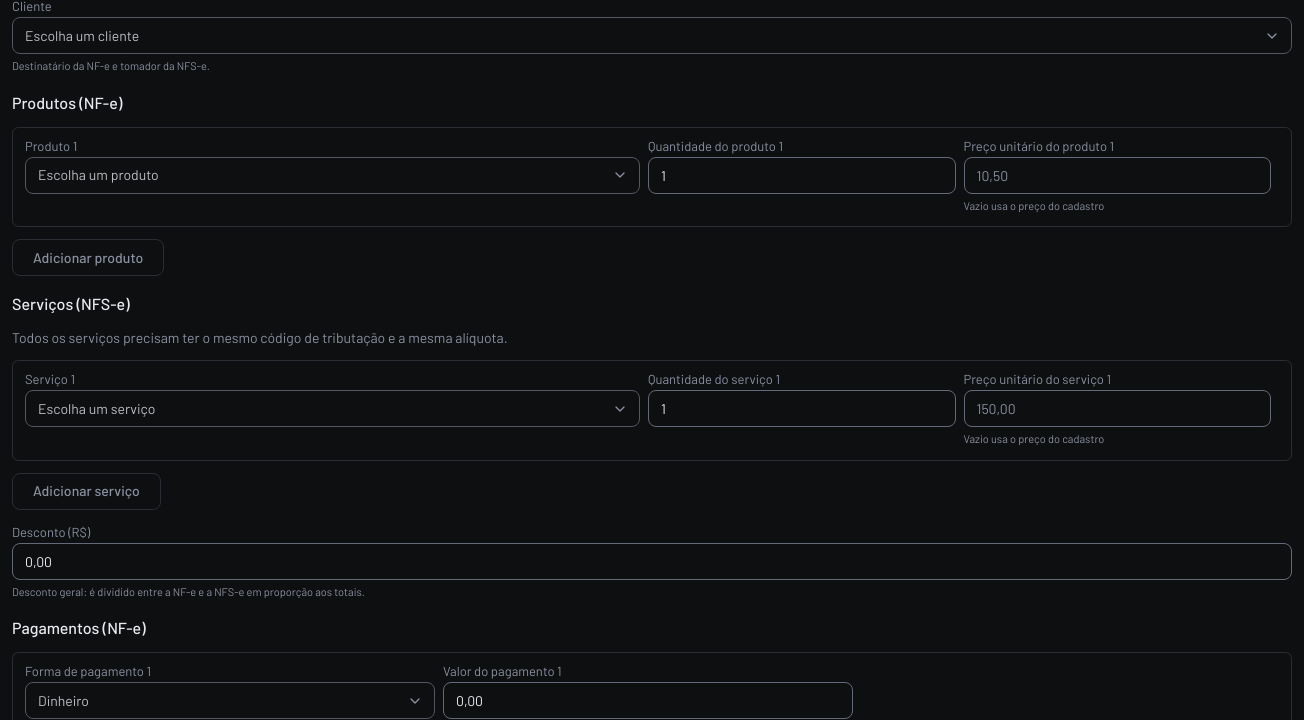
VendaForm › avisa quando o desconto passa do total dos itens
The width and height of the screenshot is (1304, 720).
Select "Maria Teste" in the dropdown labelled "Cliente" at [652, 36], box [12, 17, 1292, 54]
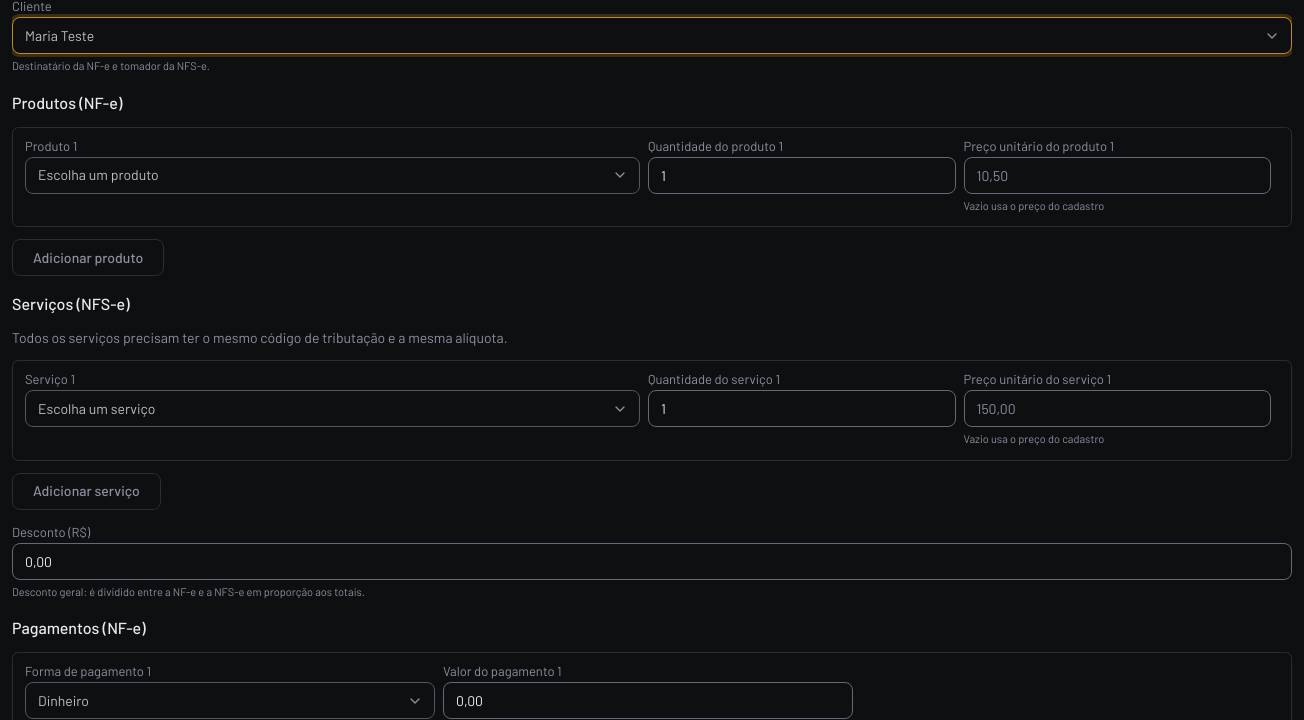
Select "Filtro de óleo" in the dropdown labelled "Produto 1" at [332, 175], box [25, 156, 640, 194]
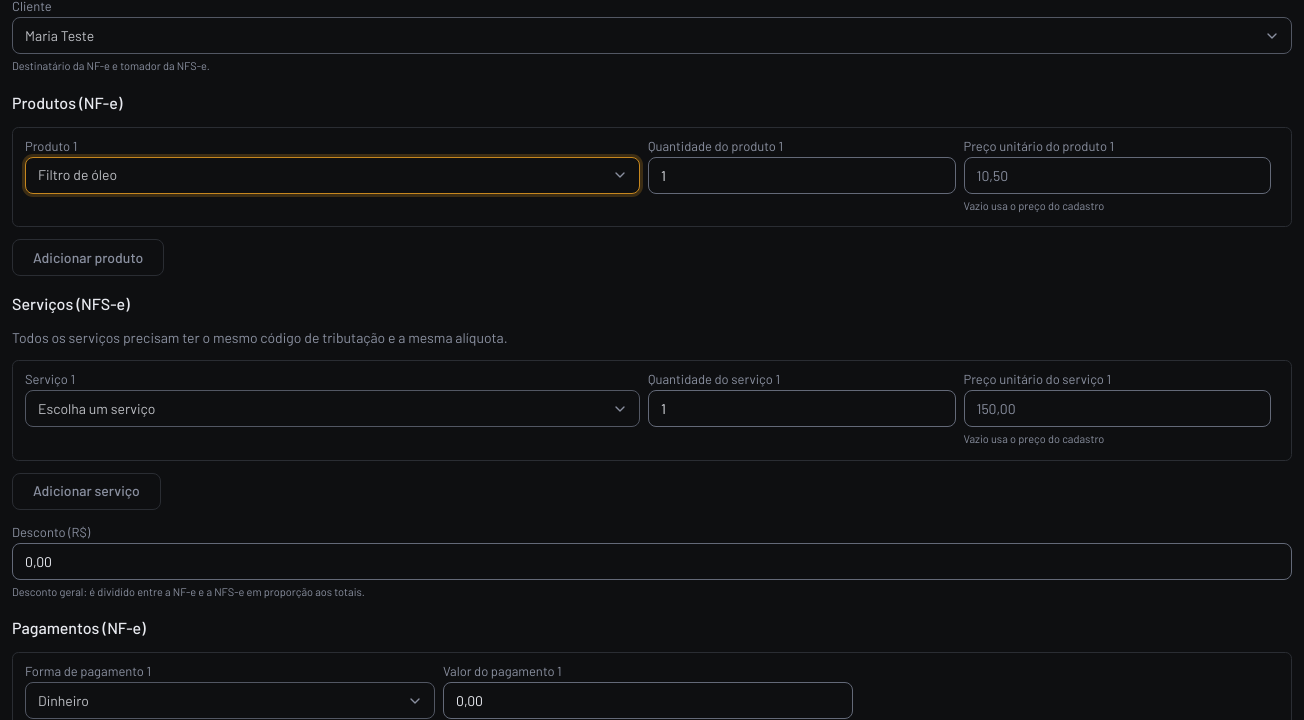
Select "Troca de óleo" in the dropdown labelled "Serviço 1" at [332, 408], box [25, 390, 640, 427]
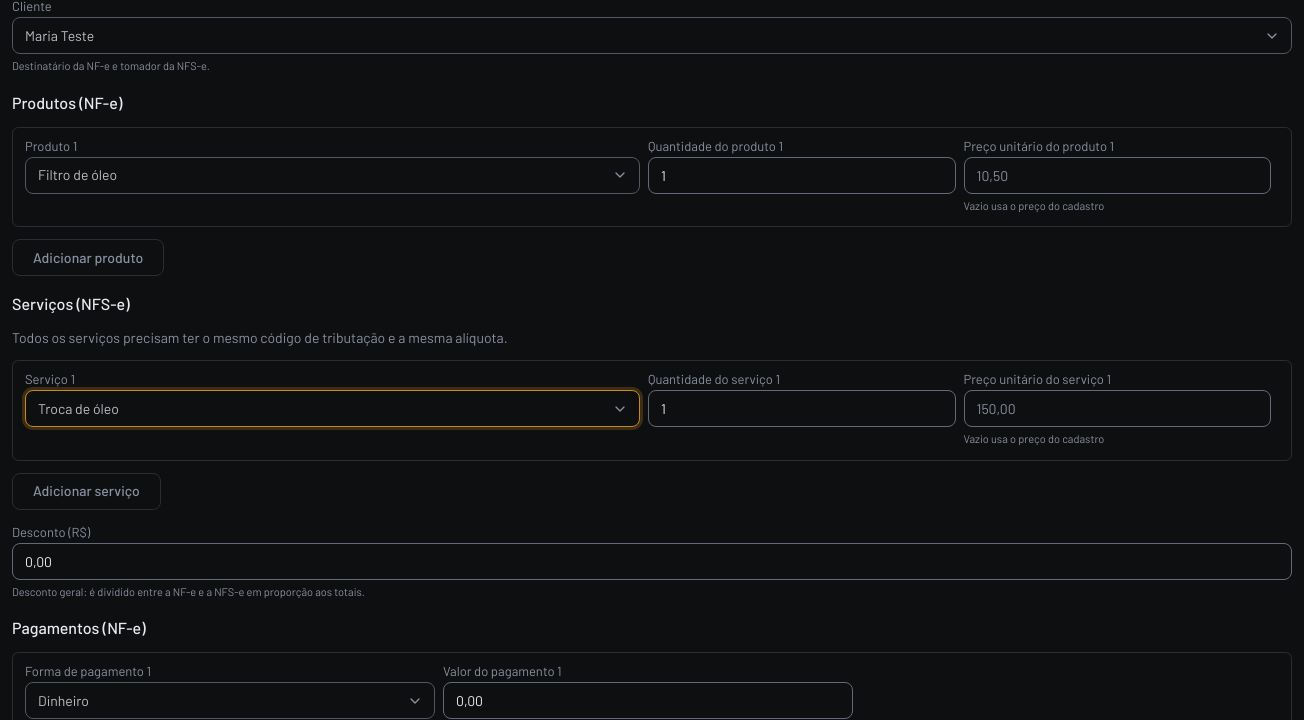
Replace the text in the field labelled "Desconto (R$)" with "999,00" at [652, 561], box [12, 542, 1292, 580]
(page scrolled)
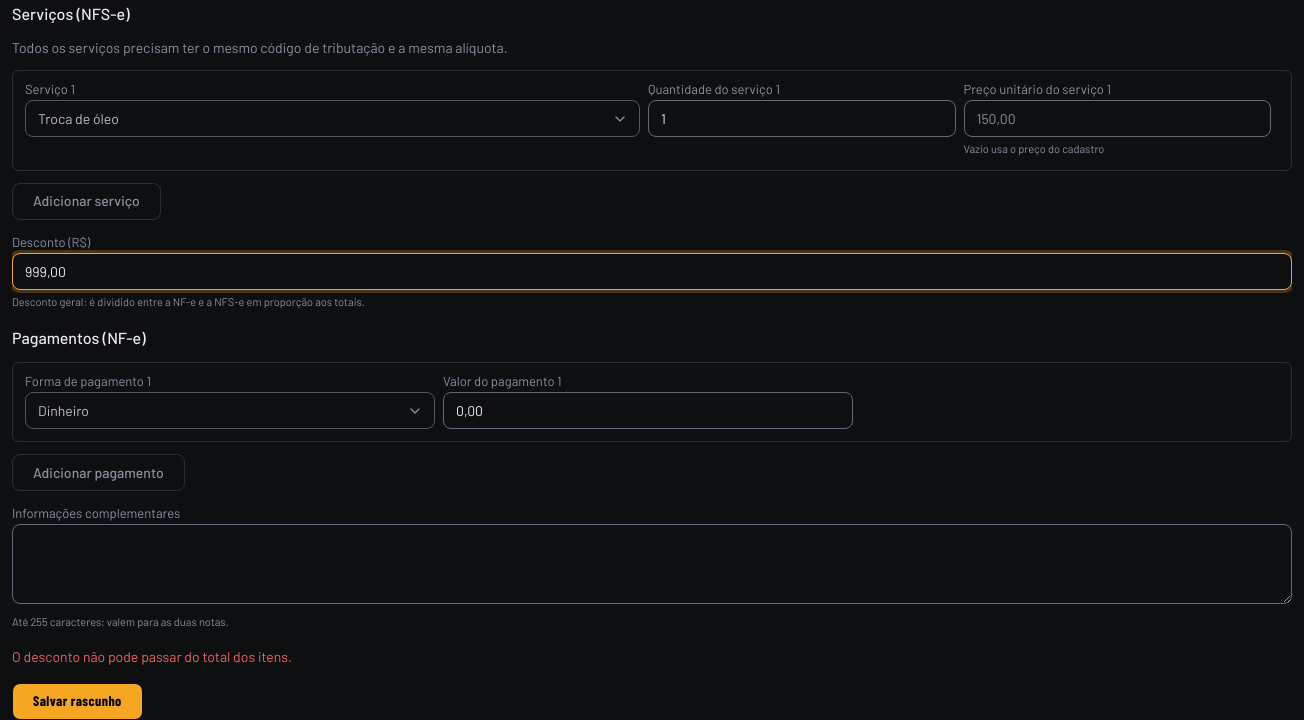
Now the text "O desconto não pode passar do total dos itens." is shown, box [12, 648, 292, 664]
